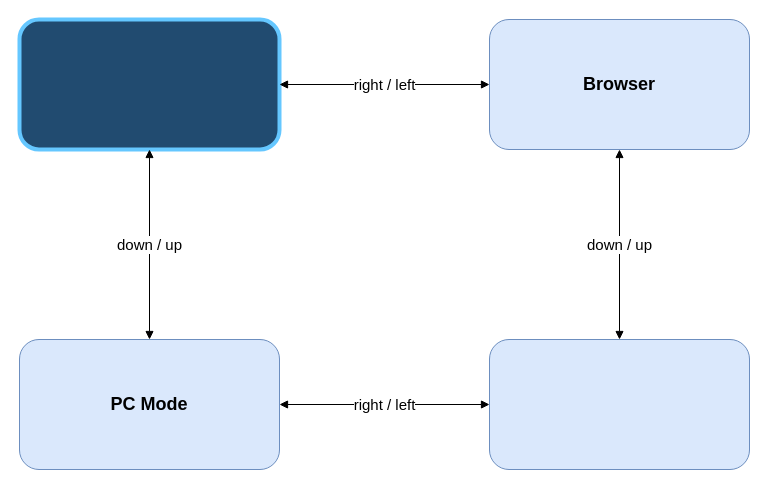
This 767x487 diagram has some shape labels left out. The centre of each missing label's shape, as x and y in pixels:
Settings: [619,404]
YouTube 初期フォーカス: [149,84]
